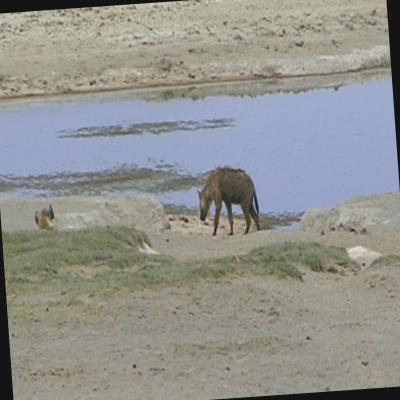hyenas: (160, 144, 276, 255)
